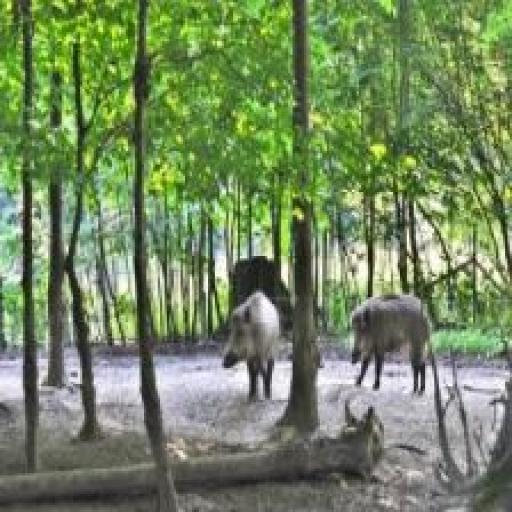Pig: (343, 286, 434, 401), (220, 288, 284, 408)
